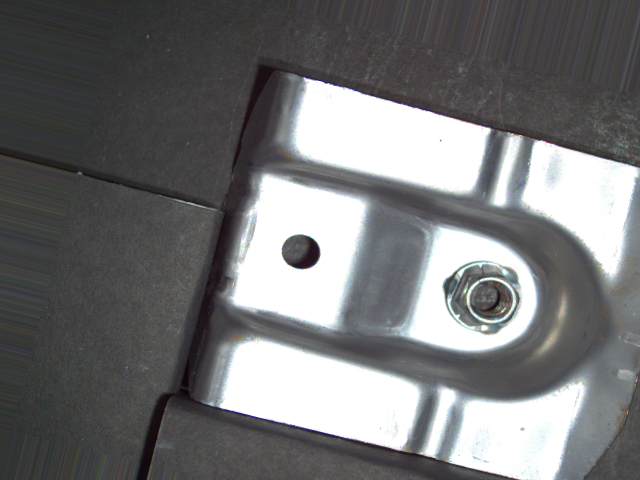good: (438, 255, 532, 340)
